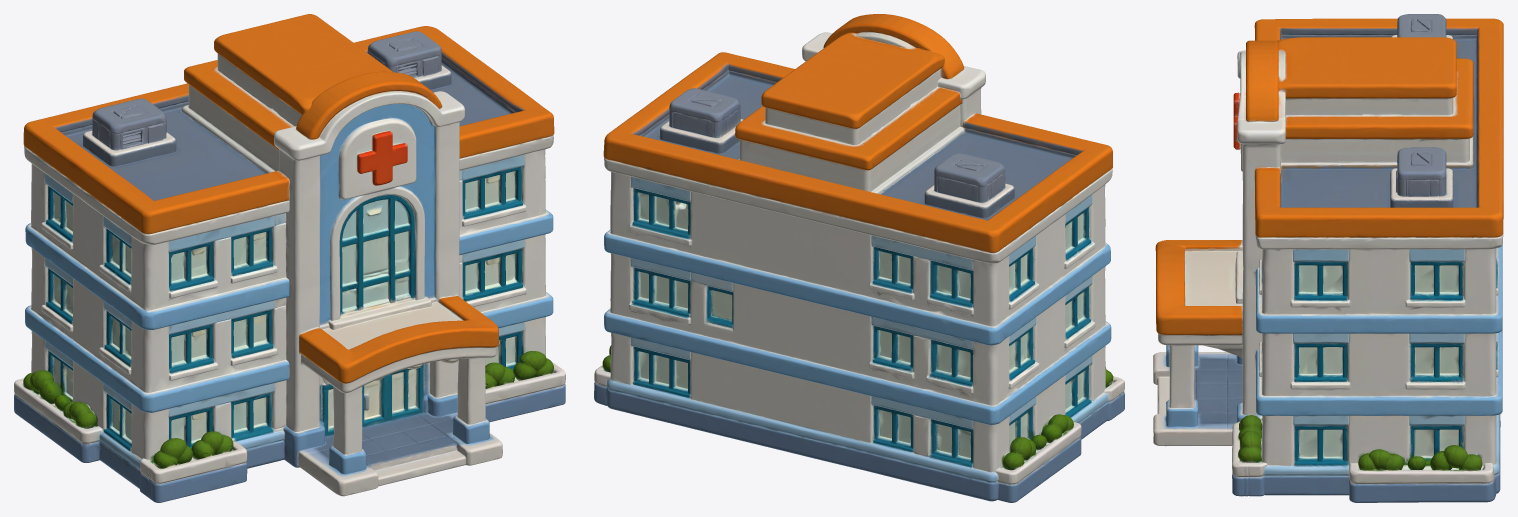
File: Hospital.fbx
The picture shows the model from 3 angles, left to right: view 1: azimuth 30°, elevation 25°; view 2: azimuth 150°, elevation 25°; view 3: azimuth 270°, elevation 25°; orthographic projection. The views are drawn at different scales.
Parts seen in each view (by area): view 1: tripo_node_319caac6-5897-477a-b204-8b64e997f07a; view 2: tripo_node_319caac6-5897-477a-b204-8b64e997f07a; view 3: tripo_node_319caac6-5897-477a-b204-8b64e997f07a.
Boxes of the visible parts, <box> form: tripo_node_319caac6-5897-477a-b204-8b64e997f07a: <box>14,14,565,502</box>; tripo_node_319caac6-5897-477a-b204-8b64e997f07a: <box>594,14,1124,502</box>; tripo_node_319caac6-5897-477a-b204-8b64e997f07a: <box>1153,14,1503,502</box>.
Size of the model in its own units: 97.91 by 76.7 by 67.98.
Materials: 1 (1 with a texture image).
